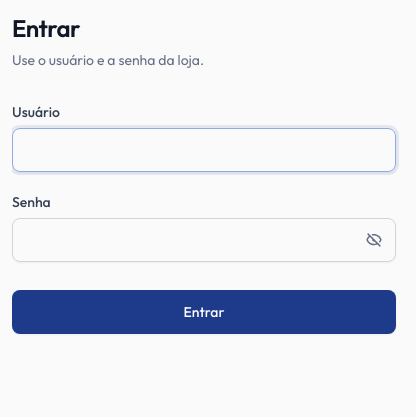
Test case: LoginForm › sends the credentials and shows the error returned by the action
Type "loja" into the field labelled "Usuário" at (204, 150), box [12,128,396,172]
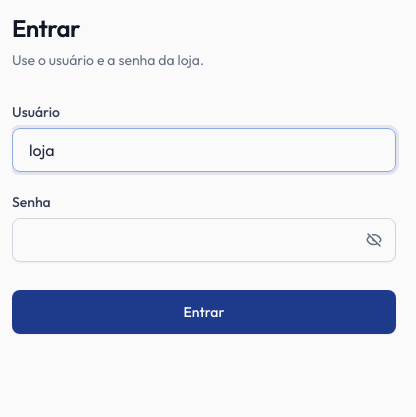
Type "errada" into the password field labelled "Senha" at (204, 240), box [12,218,396,262]
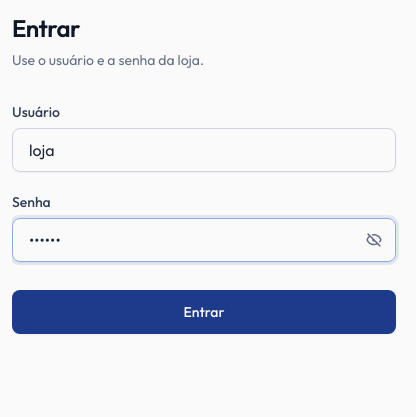
Click the button "Entrar" at (204, 312), box [12,290,396,334]
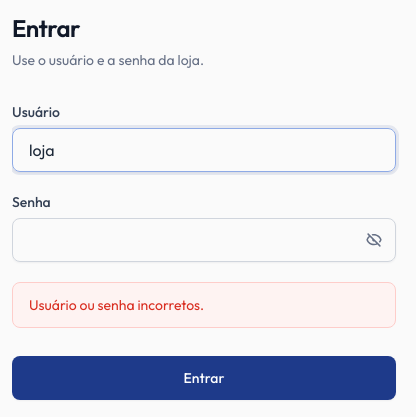
expect the message reads "Usuário ou senha incorretos.": met, box [29,296,204,314]
